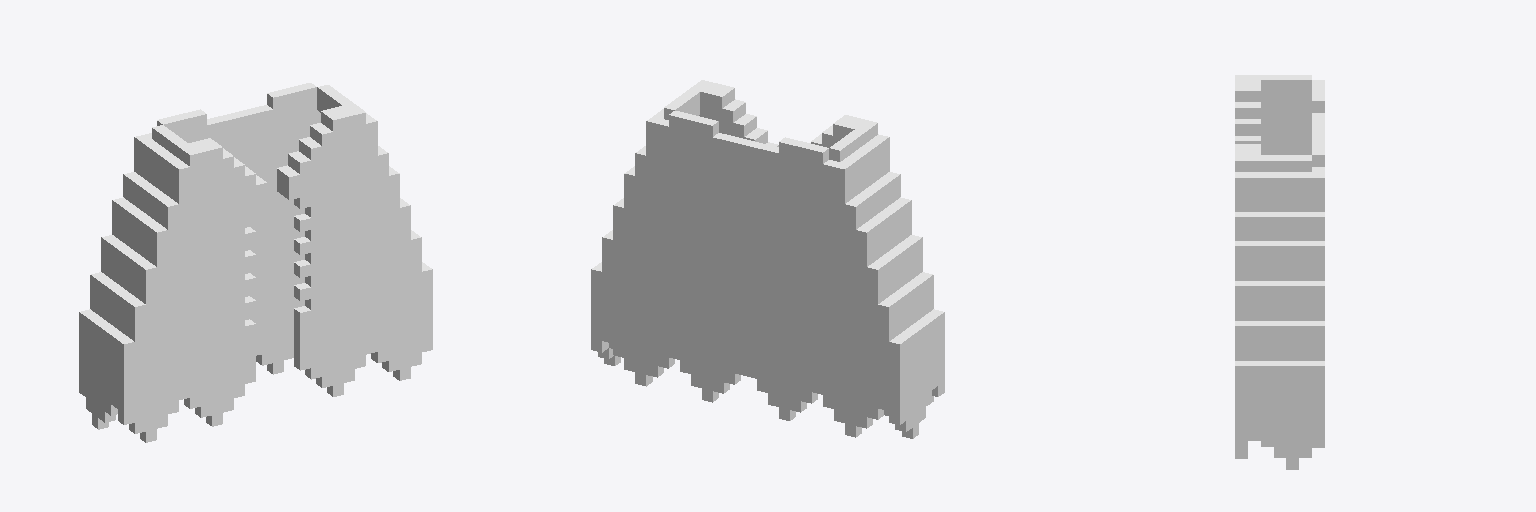
File: panache_cloak 1.obj
3 views of the same model, side by side, from view 1: azimuth 30°, elevation 25°; view 2: azimuth 150°, elevation 25°; view 3: azimuth 270°, elevation 25° (orthographic).
Size of the model in its own units: 28 by 24 by 7.